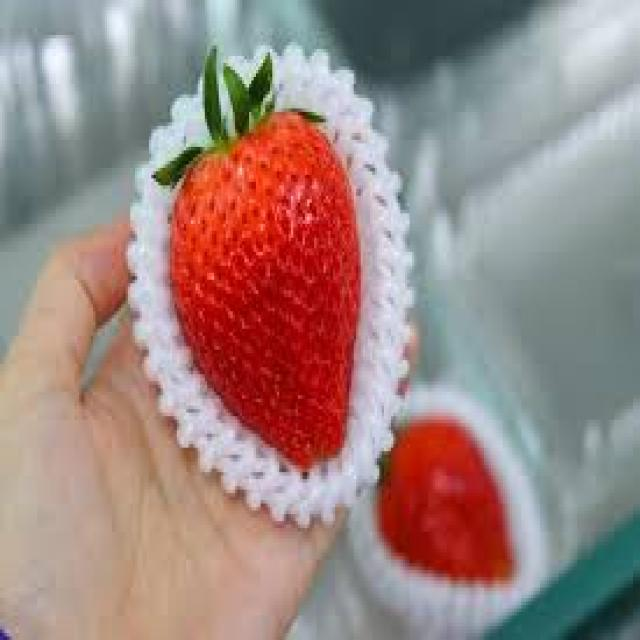mature: (169, 110, 361, 468)
